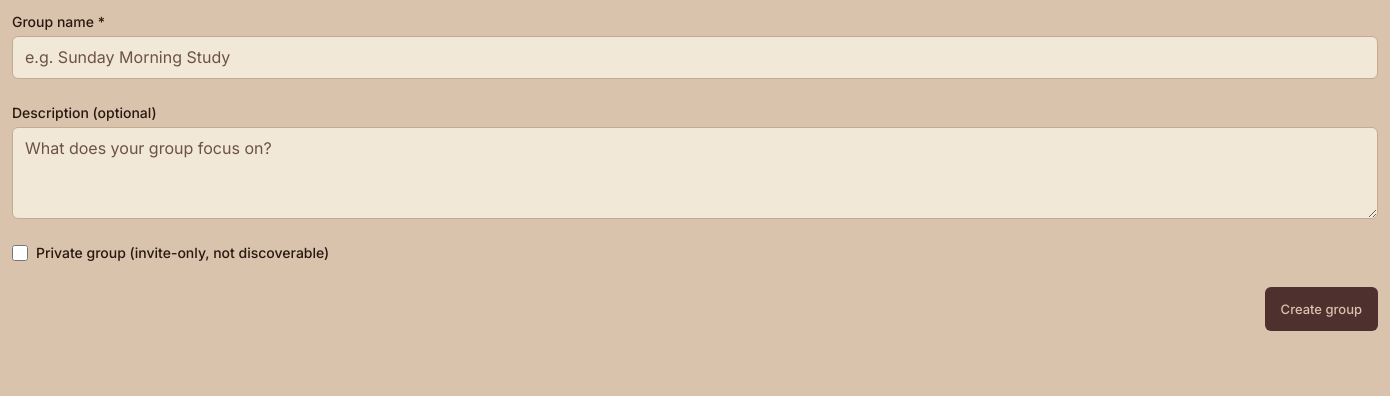
Test case: CreateGroupForm › shows API error message on failure
In the field labelled "Group name *": (695,57) [12,36,1378,79], type "Bad Group"
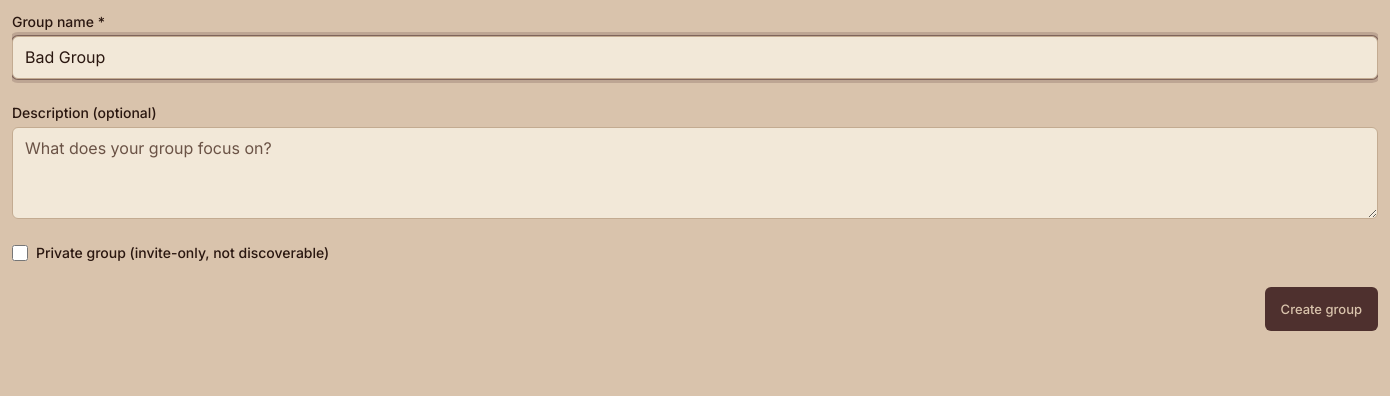
Click the button "Create group": (1321,309) [1265,287,1378,331]
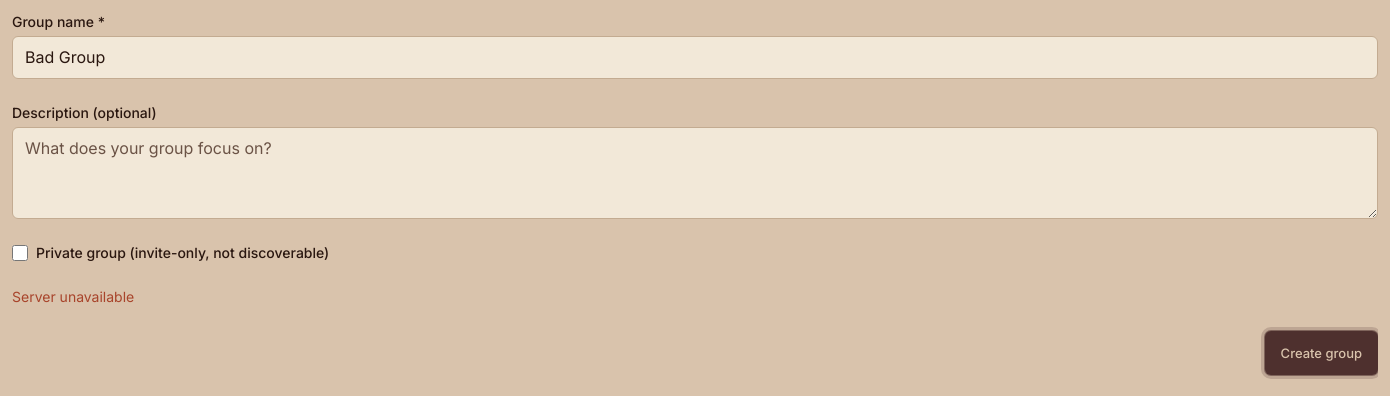
expect the text "Server unavailable" is shown: met, box [12,288,134,305]
